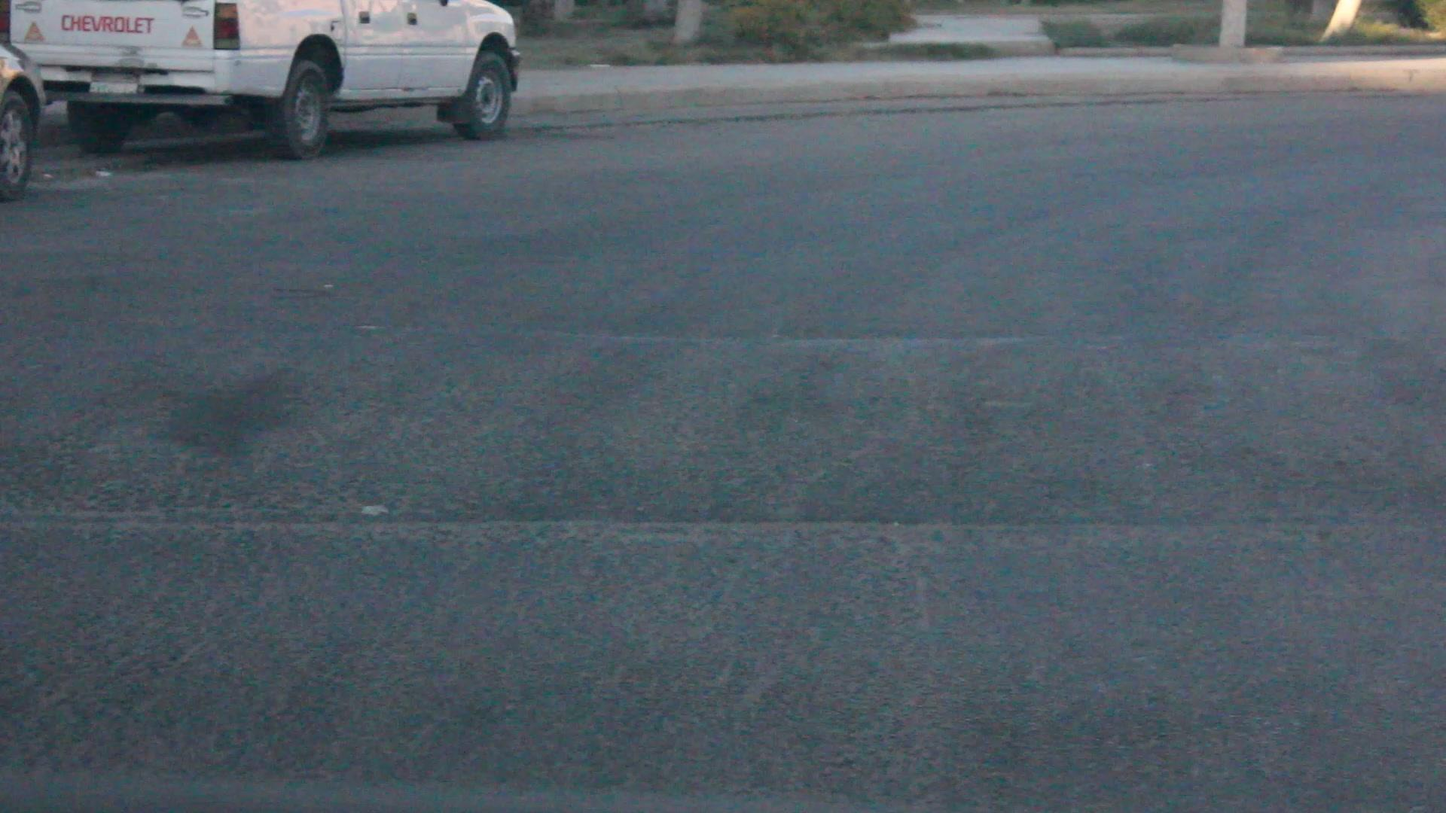Bump: (0, 333, 1446, 570)
